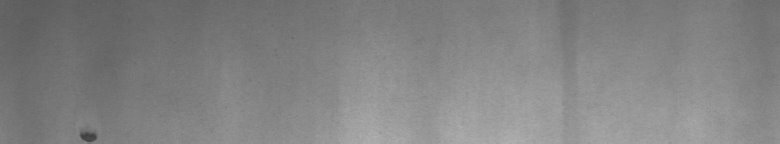fi: (76, 124, 100, 136)
